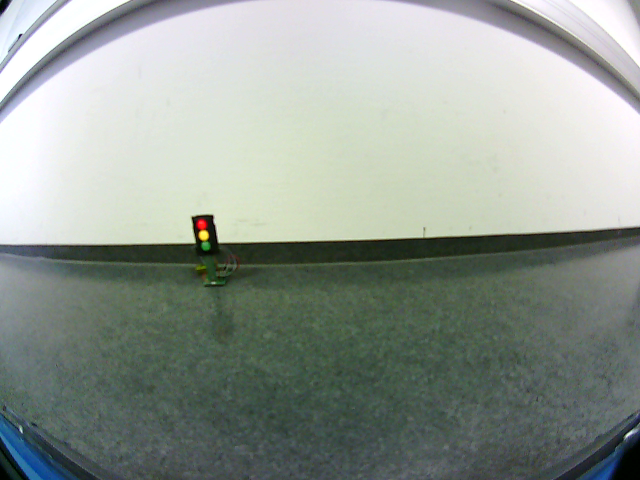red yellow trafficlight: (193, 219, 215, 257)
